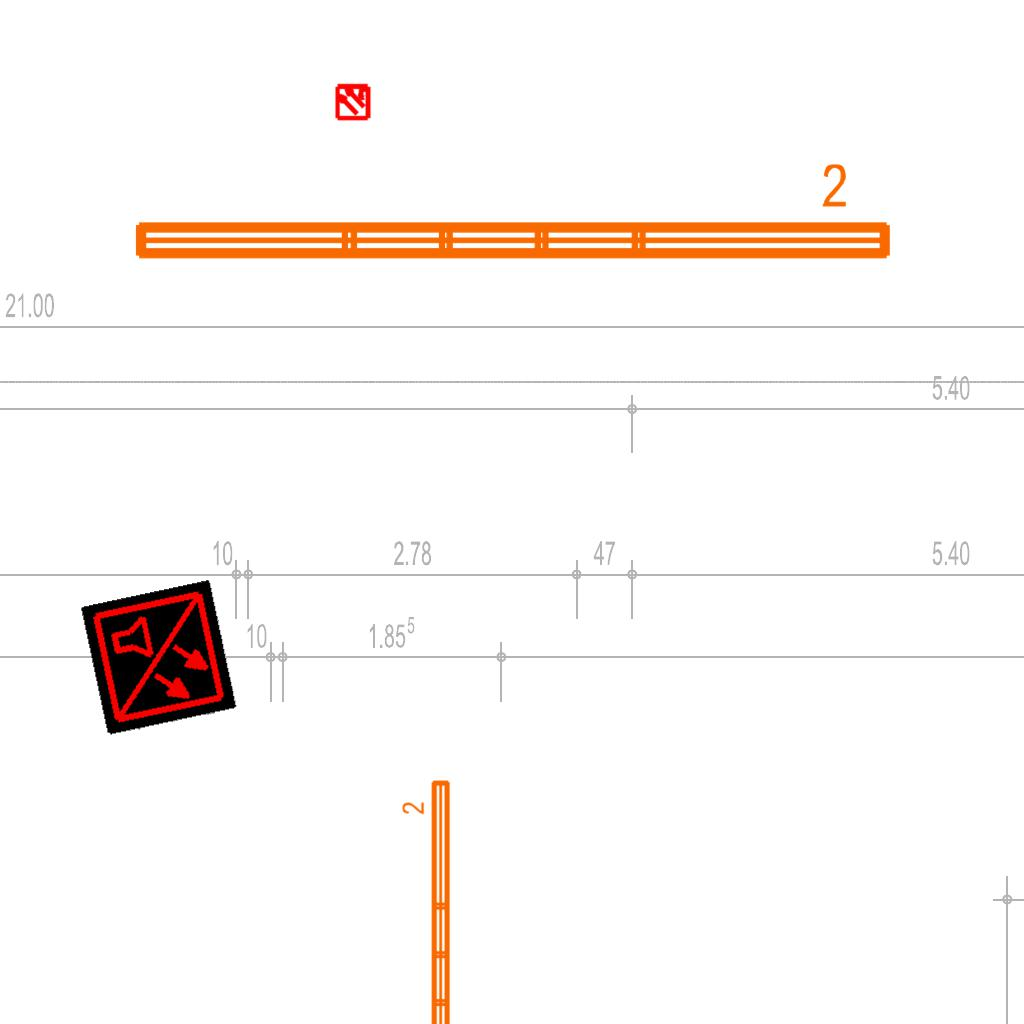Ambulanz_Pendelleuchte_LED: (125, 159, 899, 271), (400, 776, 456, 1024)
OKW_Multisensormelder_(Kombination_optischer_Rauch-Kahlenmonoxid_Waerme-Melder): (80, 579, 238, 737)
OT_Multisensormelder_(Kombination_RMO_WMD): (325, 73, 381, 129)
